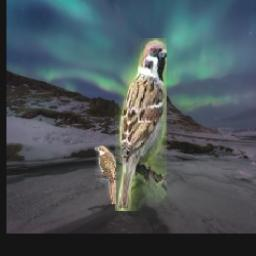Cuckoo: (95, 146, 116, 204)
Sparrow: (115, 39, 167, 212)
